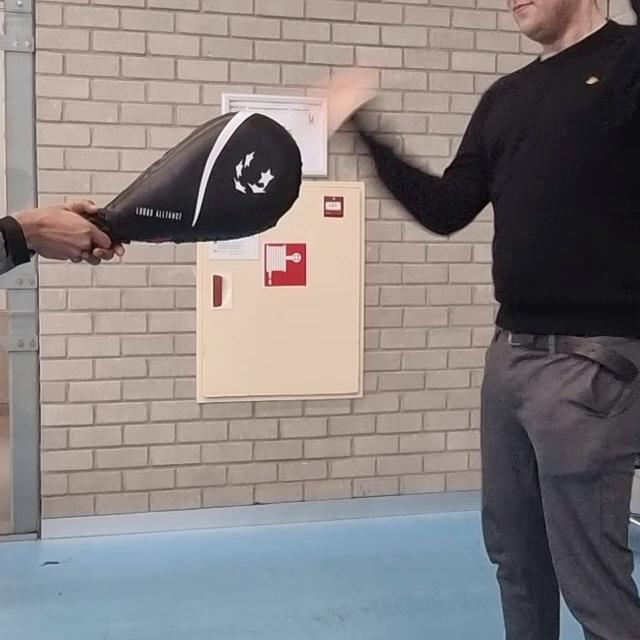paddle: (92, 110, 303, 243)
